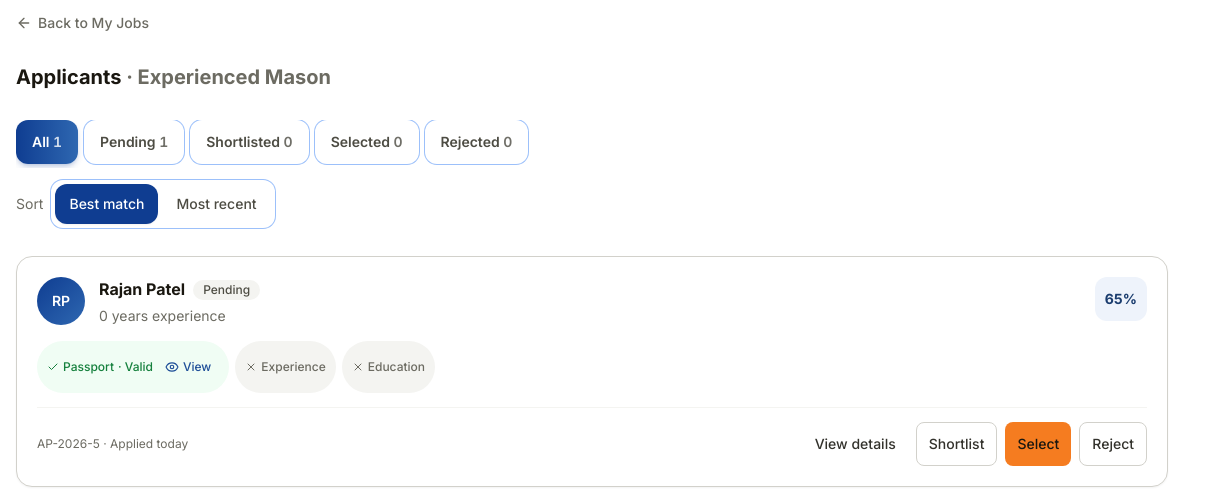
Test: Applicants pipeline — optimistic + 422 rollback › happy path: shortlist reconciles to the server truth
Click the button with aria-label "shortlist rajan" at (957, 444), box [916, 422, 997, 466]
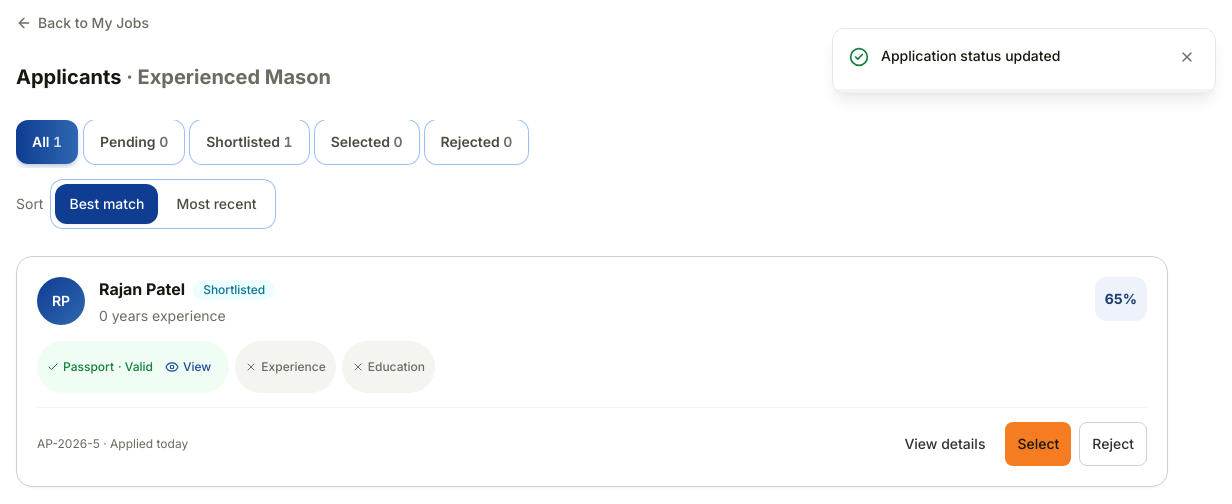
Expected: the text "Shortlisted" is shown, [193, 280, 275, 300]
